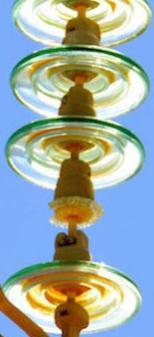gap: (2, 114, 145, 335)
